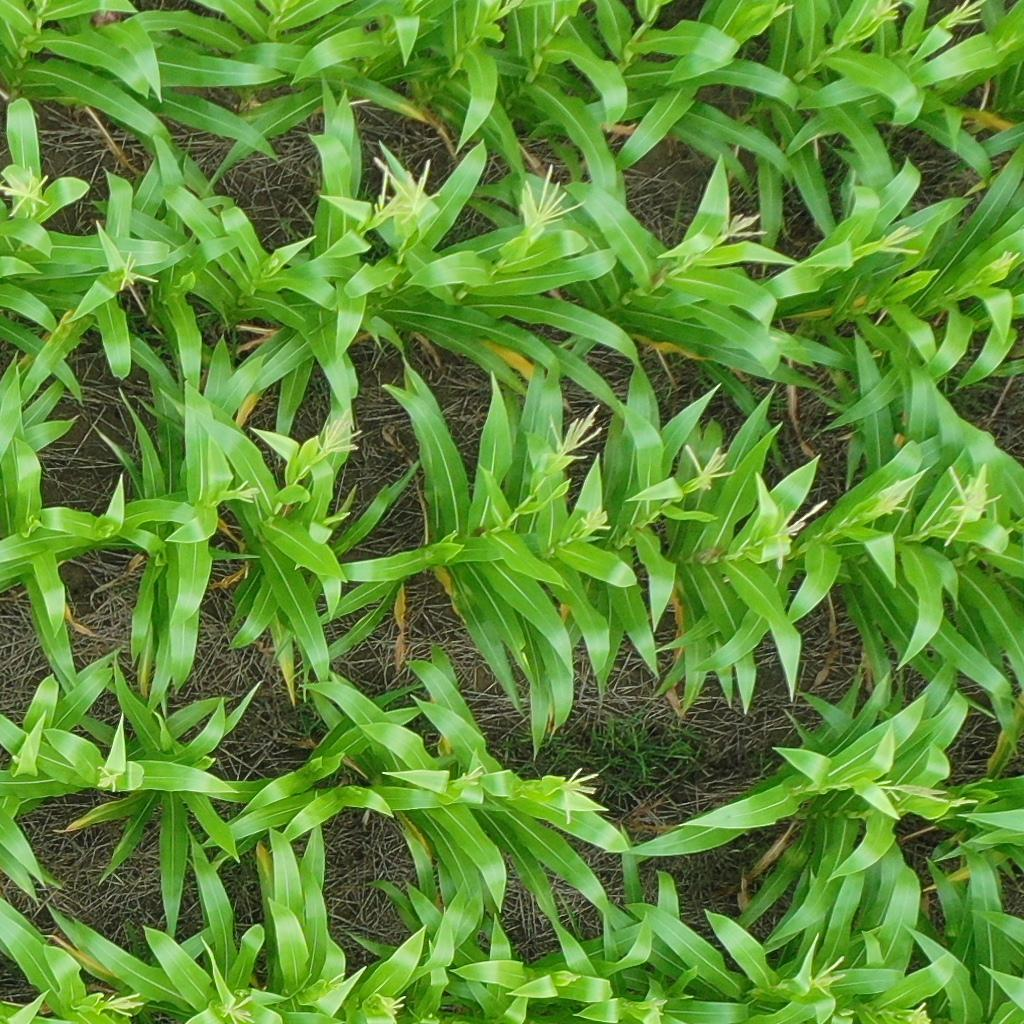Tassel: (518, 164, 588, 234), (375, 154, 441, 226), (945, 466, 1003, 547), (548, 403, 606, 461), (1, 166, 53, 219), (681, 442, 736, 490), (555, 769, 601, 825), (775, 498, 829, 544), (372, 164, 415, 219), (874, 775, 948, 806), (315, 408, 364, 454), (116, 251, 160, 291), (877, 222, 924, 256), (875, 477, 912, 520), (811, 956, 846, 1000), (720, 212, 768, 244), (943, 1, 986, 30), (106, 991, 143, 1016), (581, 506, 612, 532), (227, 996, 255, 1024), (234, 479, 260, 507), (96, 766, 122, 793), (870, 1, 903, 22), (460, 763, 486, 789), (380, 996, 407, 1020), (993, 247, 1021, 267), (909, 1001, 930, 1024), (770, 2, 795, 21), (946, 797, 977, 810), (328, 972, 347, 991), (652, 996, 668, 1018), (555, 973, 583, 982)
